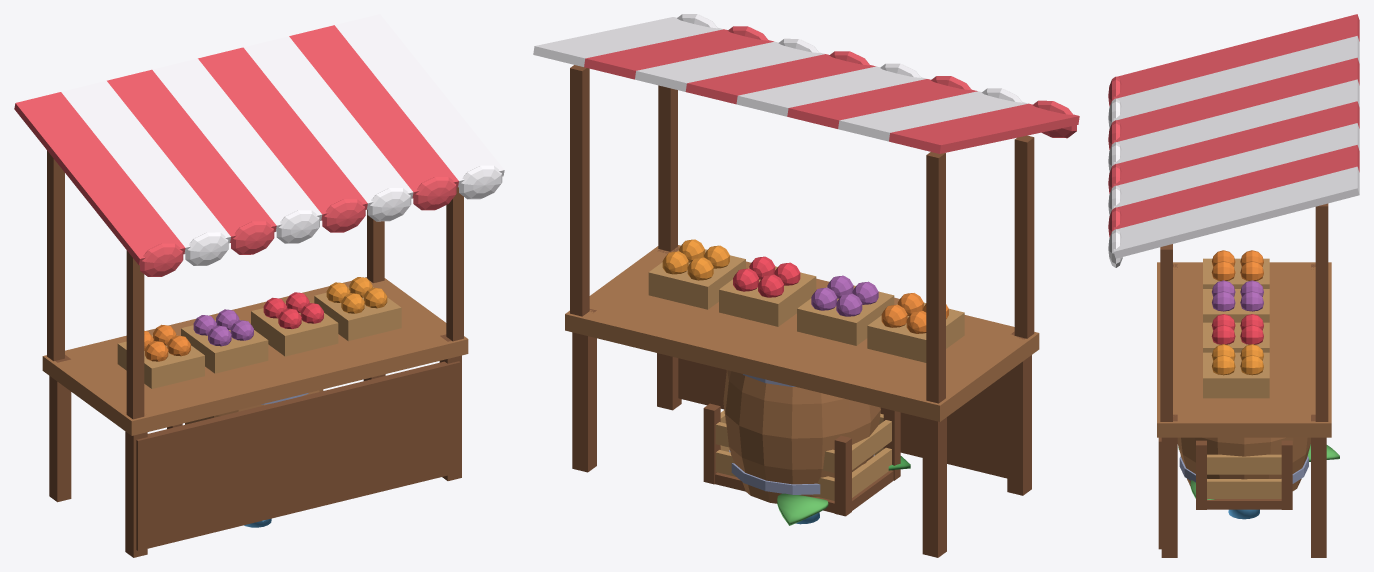
The model's file is farm.glb.
The picture shows the model from 3 angles, left to right: view 1: azimuth 30°, elevation 25°; view 2: azimuth 150°, elevation 25°; view 3: azimuth 270°, elevation 25°; orthographic projection. The views are drawn at different scales.
Parts seen in each view (by area): view 1: Stall; view 2: Stall, Barrel, HarvestCrate, PumpkinVine; view 3: Stall, HarvestCrate, Barrel.
Boxes of the visible parts, box(x1,y1,x2,y2) form: Stall: box(14, 14, 504, 557); Stall: box(533, 14, 1079, 557); Barrel: box(723, 370, 880, 503); HarvestCrate: box(703, 403, 900, 516); PumpkinVine: box(777, 456, 910, 525); Stall: box(1108, 14, 1359, 557); HarvestCrate: box(1196, 440, 1292, 509); Barrel: box(1177, 437, 1310, 490).
Size of the model in its own units: 2.6 by 2.86 by 1.59.
